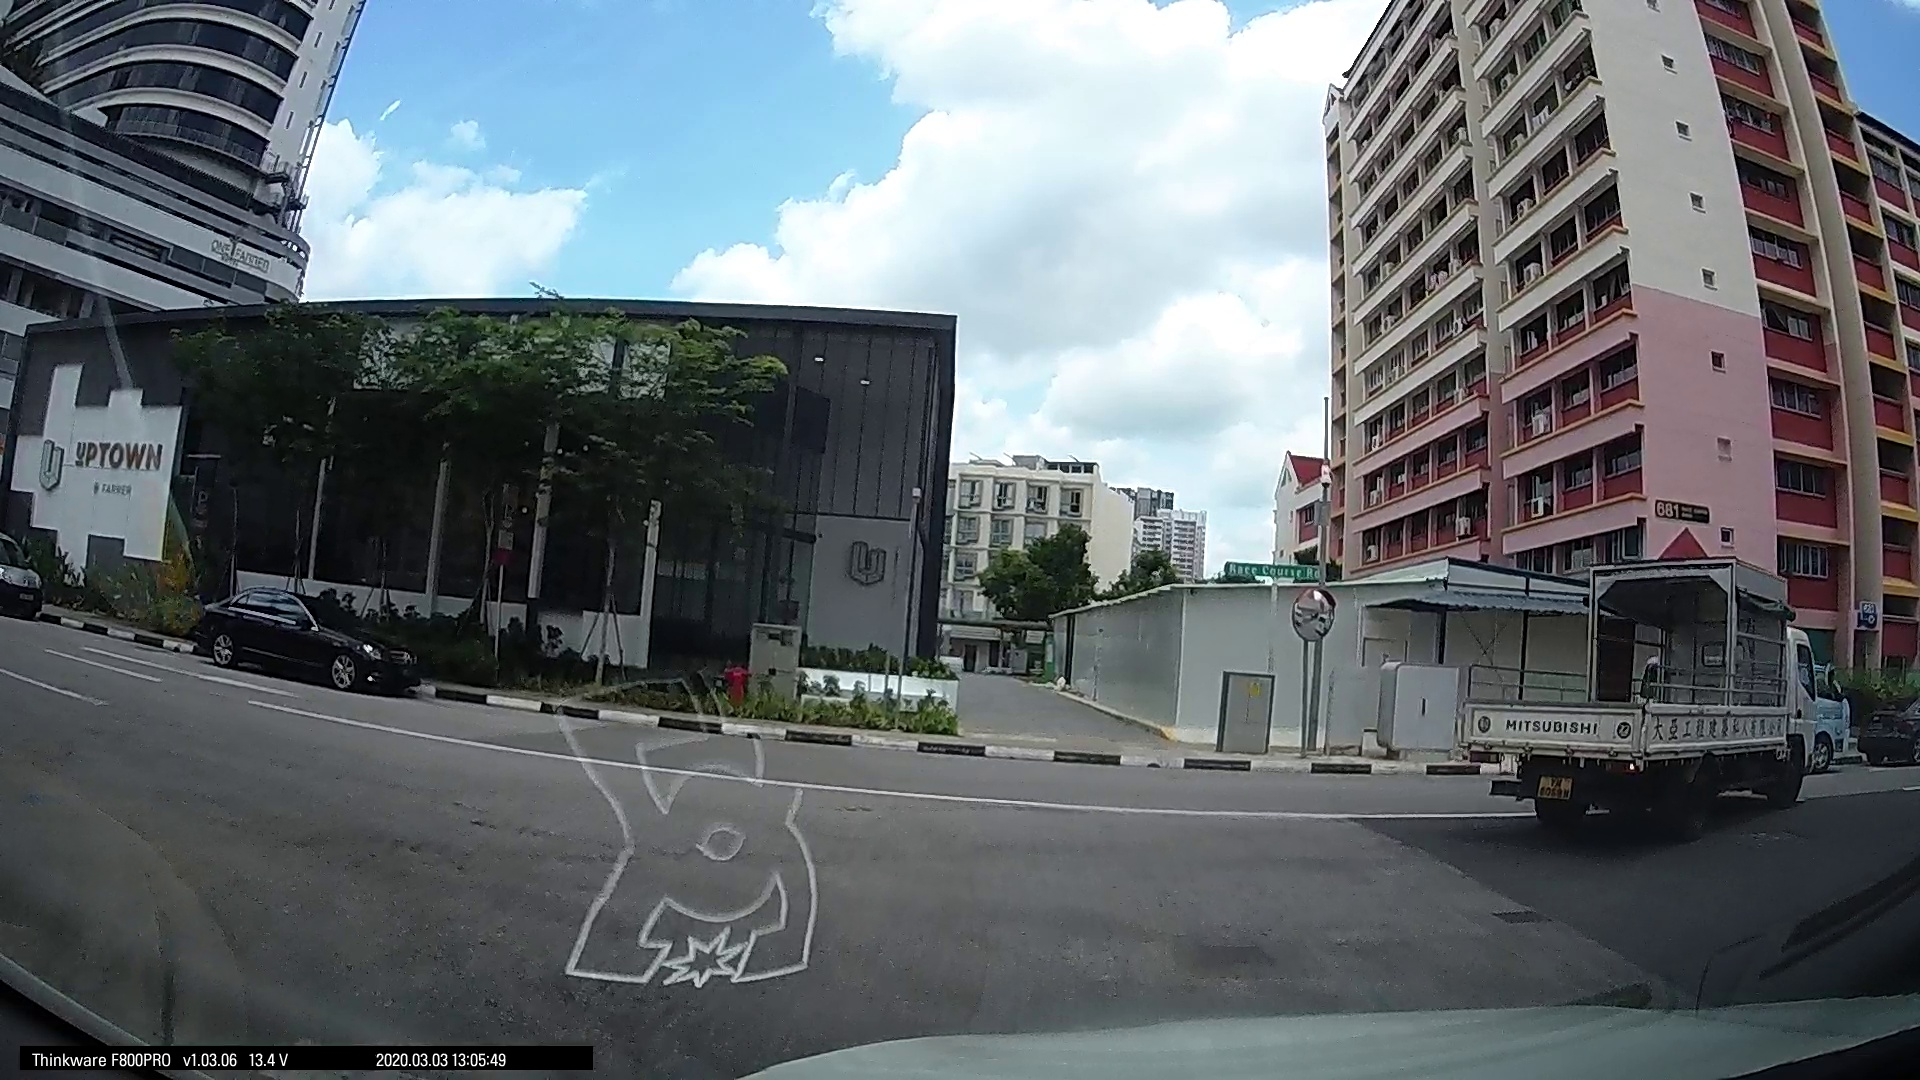Heavy Vehicle: (1451, 555, 1822, 829)
Light Vehicle: (181, 578, 419, 691)
